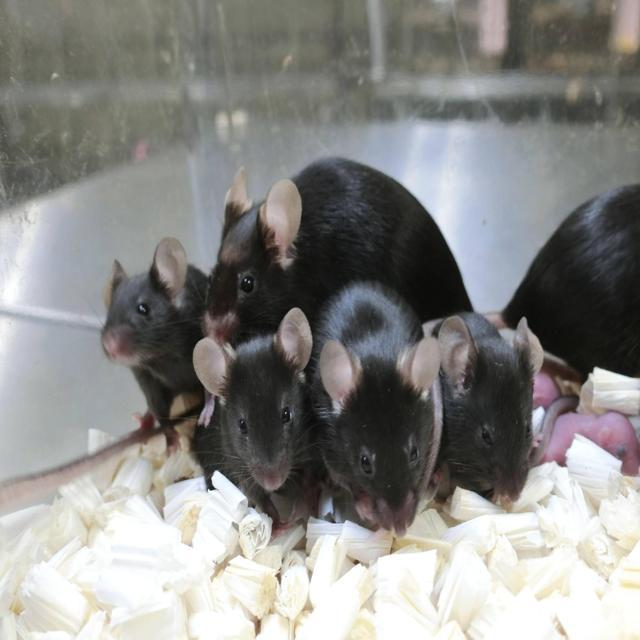rat: (202, 155, 476, 340), (315, 282, 445, 535), (194, 310, 328, 519), (102, 237, 214, 456), (422, 315, 548, 509)
